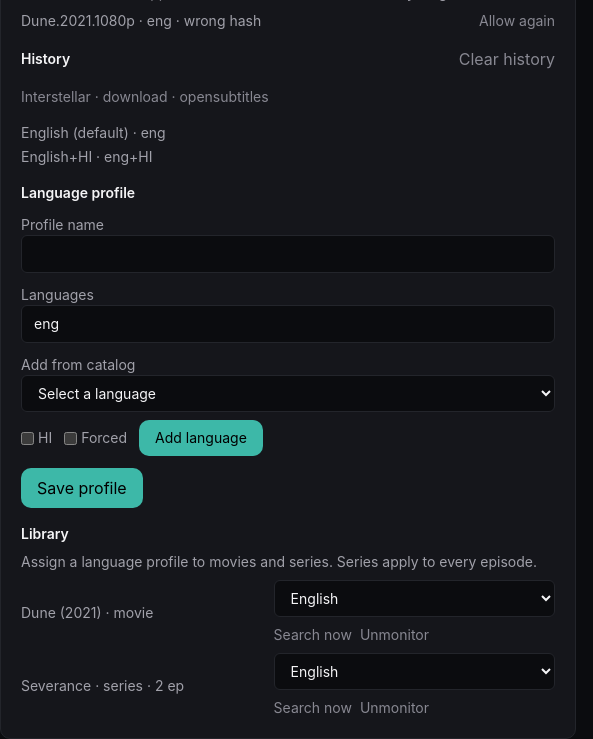
Test: Settings page › assigns a language profile to a subtitle library series
(page scrolled)
Check: the list with test id "subtitle-library-list" shows "Dune", box [21,604,56,620]
Check: the list with test id "subtitle-library-list" shows "Severance", box [21,676,91,694]
Step 1. Select "English+HI" in the dropdown named "Language profile for Severance" → [414, 672], box [274,653,555,690]
(page scrolled)
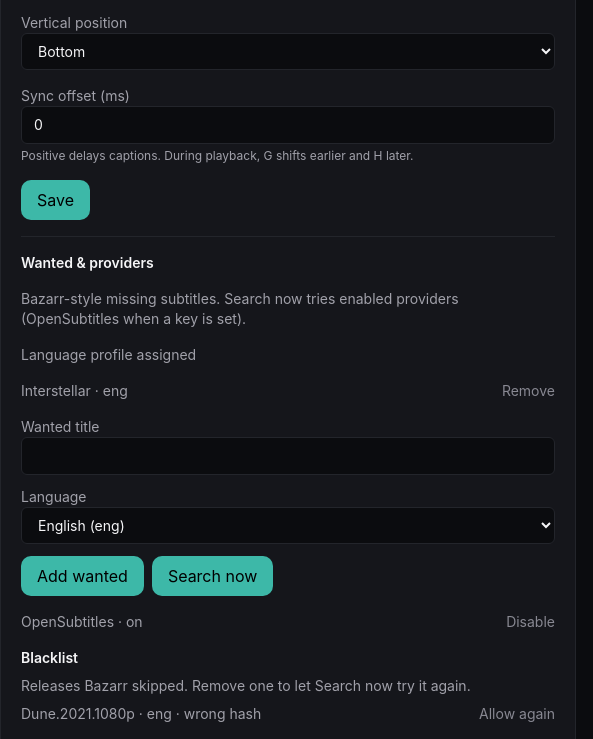
Check: the text with test id "subtitle-ops-flash" reads "Language profile assigned", box [21,346,196,363]
